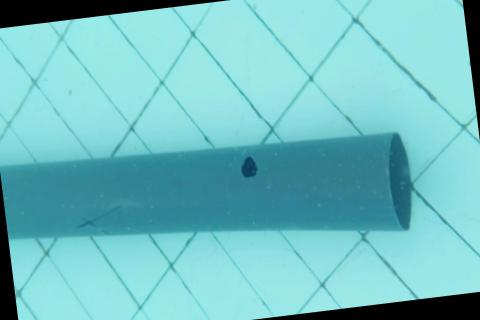kebocoran: (239, 153, 259, 179)
keretakan: (74, 206, 118, 231)
